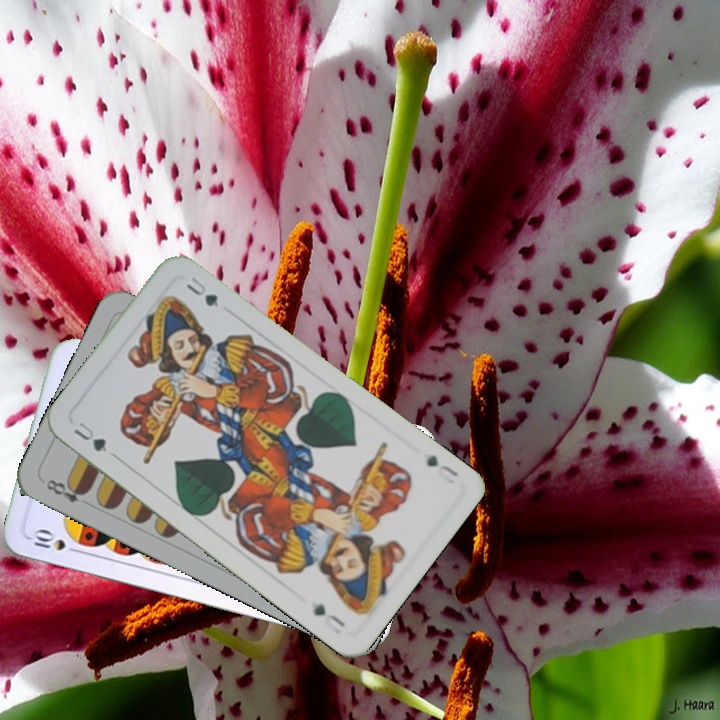E8: (42, 475, 94, 509)
GU: (69, 417, 110, 455), (422, 450, 462, 487)
S10: (26, 526, 84, 556)
